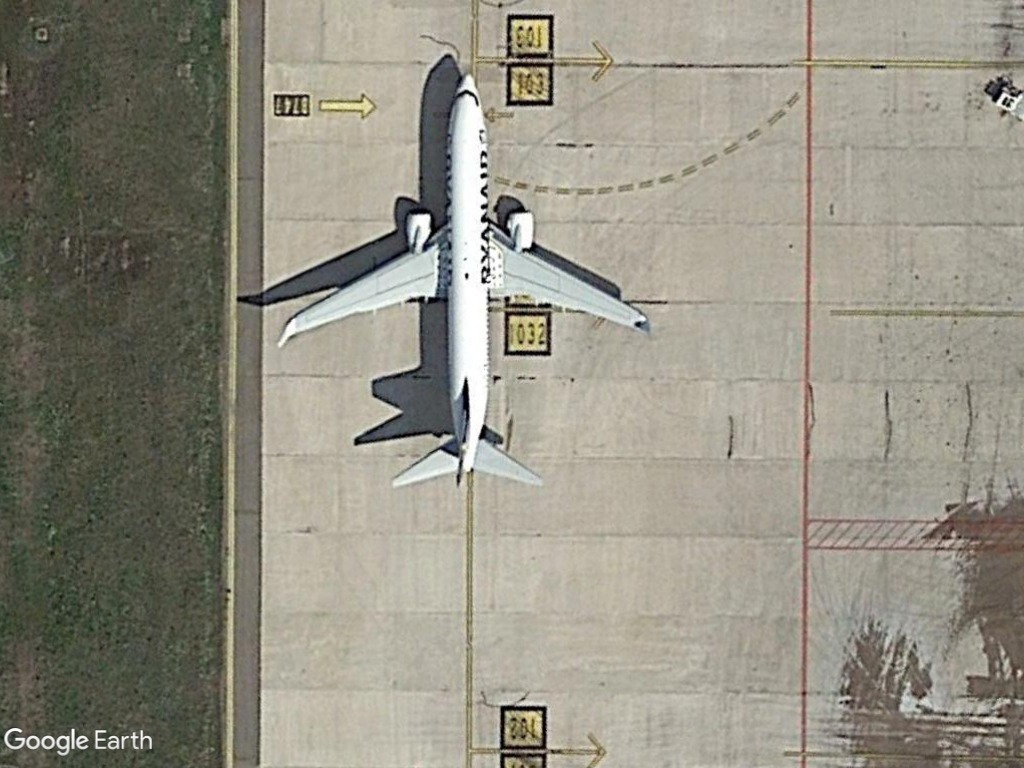airliner: (273, 65, 658, 505)
